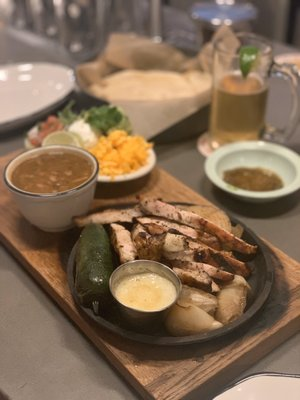curry: (83, 105, 126, 133)
pizza: (196, 27, 300, 157)
sushi: (3, 145, 99, 234), (204, 140, 300, 219), (83, 129, 157, 199), (109, 259, 182, 316)
